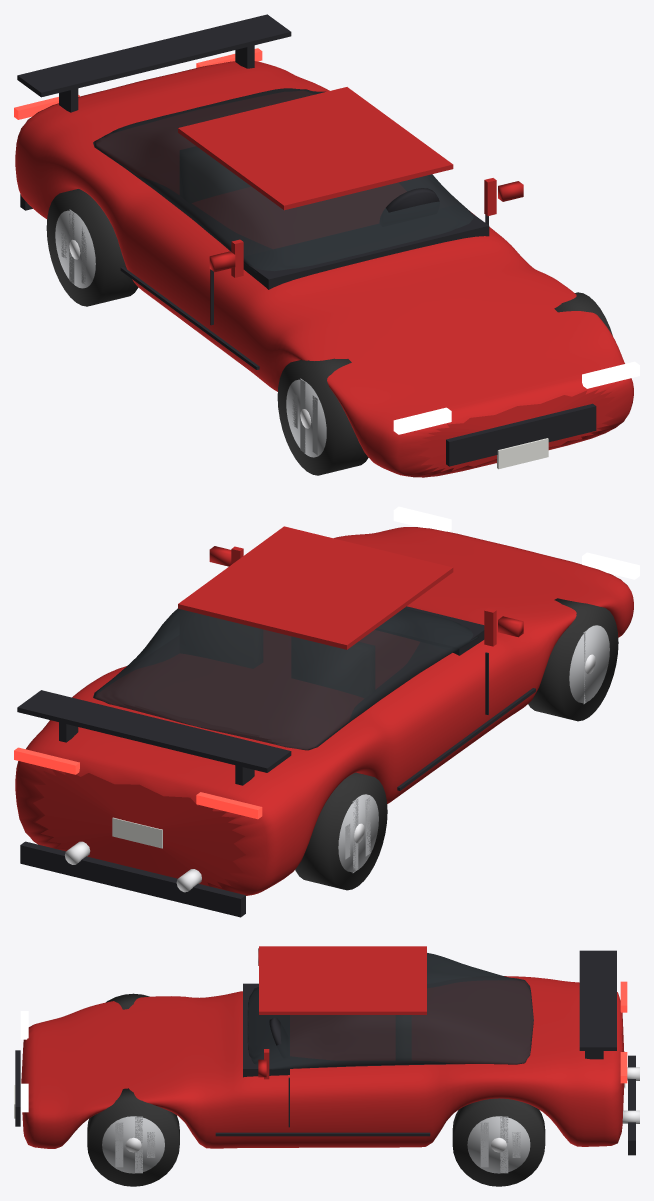
Rendered from car.glb.
3 views of the same model, one above another, from view 1: azimuth 30°, elevation 25°; view 2: azimuth 150°, elevation 25°; view 3: azimuth 270°, elevation 25° (orthographic). The views are drawn at different scales.
Parts seen in each view (by area): view 1: CarBody, CarDetails, CarCabin, Wheel_RR, Wheel_FR, SteeringWheel, Wheel_FL; view 2: CarBody, CarDetails, CarCabin, Wheel_RR, Wheel_FR; view 3: CarBody, CarDetails, CarCabin, Wheel_RL, Wheel_FL.
Boxes of the visible parts, x1,y1,x2,y2 form: CarBody: (15, 61, 633, 477); CarDetails: (14, 14, 639, 469); CarCabin: (93, 88, 473, 273); Wheel_RR: (46, 189, 138, 306); Wheel_FR: (277, 358, 368, 475); SteeringWheel: (386, 188, 439, 212); Wheel_FL: (554, 292, 612, 335); CarBody: (15, 527, 633, 895); CarDetails: (14, 506, 639, 917); CarCabin: (93, 608, 478, 750); Wheel_RR: (295, 772, 387, 890); Wheel_FR: (528, 598, 618, 721); CarBody: (21, 976, 624, 1148); CarDetails: (14, 946, 639, 1155); CarCabin: (247, 953, 533, 1070); Wheel_RL: (452, 1098, 545, 1186); Wheel_FL: (87, 1088, 179, 1186).
Size of the model in its own units: 2.1 by 1.26 by 4.66.
